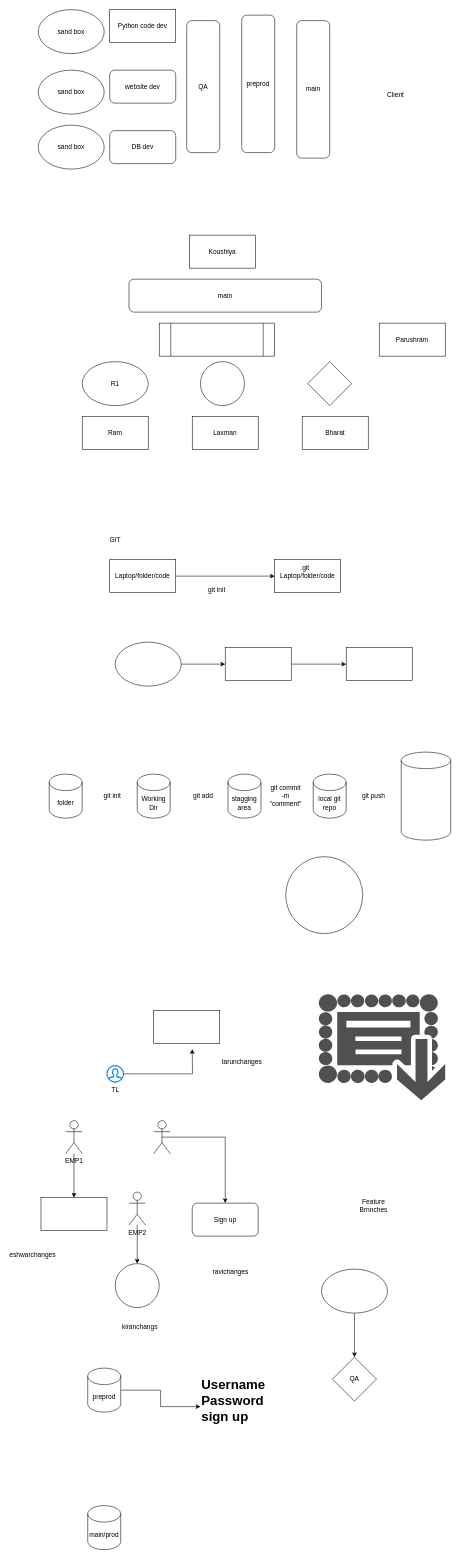
This 460x1559 diagram has some shape labels left out. The centre of each missing label's shape, as x and y in pixels:
B1: (x=329, y=383)
DEV: (x=354, y=1291)
EMP3: (x=161, y=1137)
Forgot password: (x=137, y=1285)
git remote/central repo: (x=426, y=796)
L1: (x=222, y=383)
P1: (x=217, y=339)
Password: (x=73, y=1214)
Username: (x=186, y=1027)
Working Directory: (x=258, y=664)
